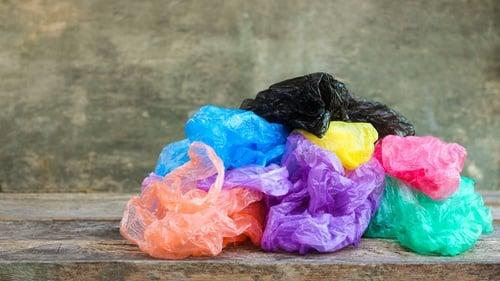LDPE: (119, 142, 266, 259), (258, 131, 386, 256), (240, 71, 418, 139), (366, 175, 495, 258), (155, 104, 287, 175), (373, 134, 470, 201), (299, 119, 380, 169)
